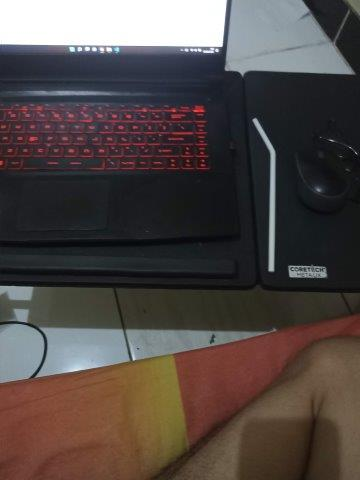sedotan: (253, 118, 276, 271)
